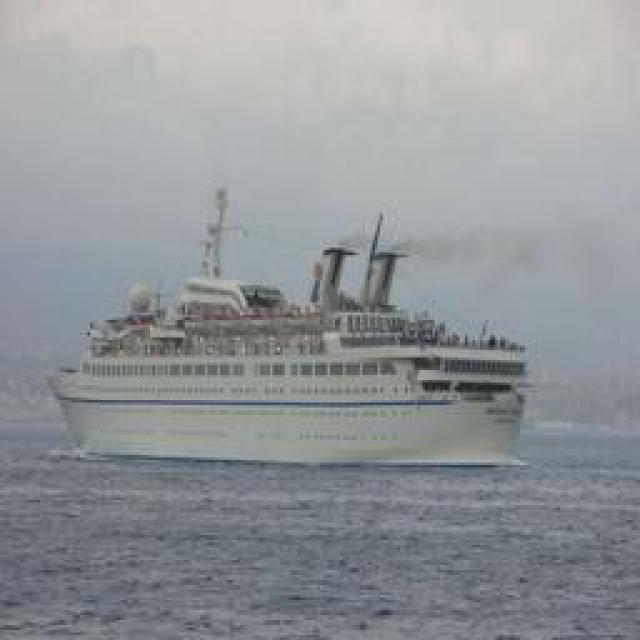Ship: (52, 191, 520, 466)
